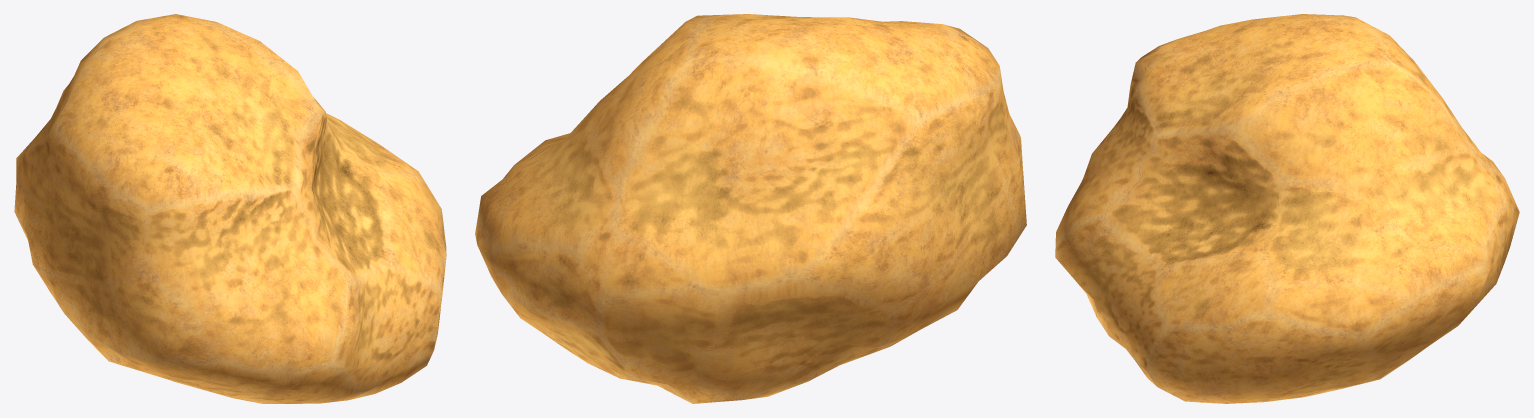
File: gold_nugget.glb
3 views of the same model, side by side, from view 1: azimuth 30°, elevation 25°; view 2: azimuth 150°, elevation 25°; view 3: azimuth 270°, elevation 25° (orthographic). The views are drawn at different scales.
Visible parts, largest first — view 1: GoldNugget; view 2: GoldNugget; view 3: GoldNugget.
Part boxes in pixels (bbox=[...]): GoldNugget: bbox=[14, 14, 446, 403]; GoldNugget: bbox=[475, 14, 1026, 403]; GoldNugget: bbox=[1055, 14, 1519, 403].
Bounding box in the file's own units: 0.1195 × 0.0984 × 0.1378.
1 material, 1 textured.
